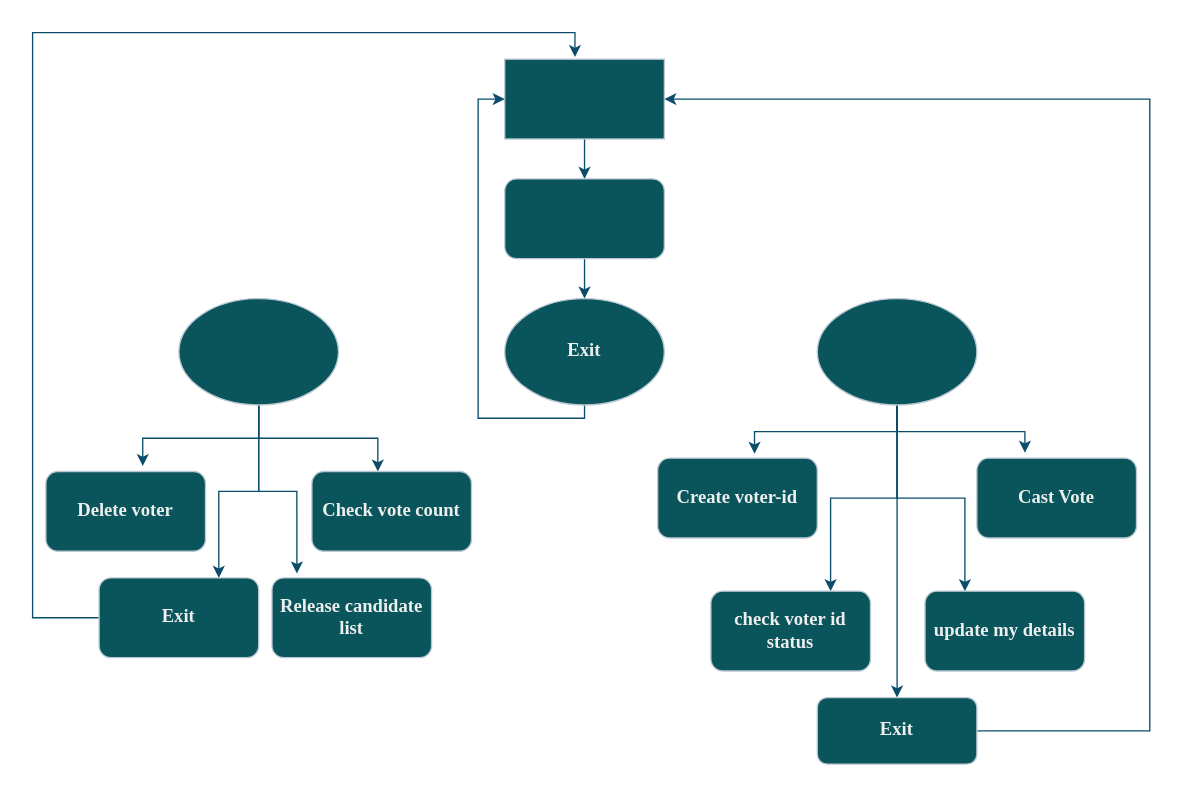
This 1184x787 diagram has some shape labels left out. The centre of each missing label's shape, as x and y in pixels:
"Admin" goes at pixel 258 351.
"Portal Menu" goes at pixel 583 218.
"Terminal" goes at pixel 583 98.
"Voter" goes at pixel 896 351.
